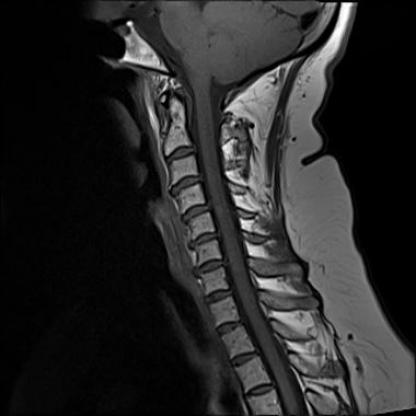Disc Bulgerotation: (187, 232, 223, 247)
